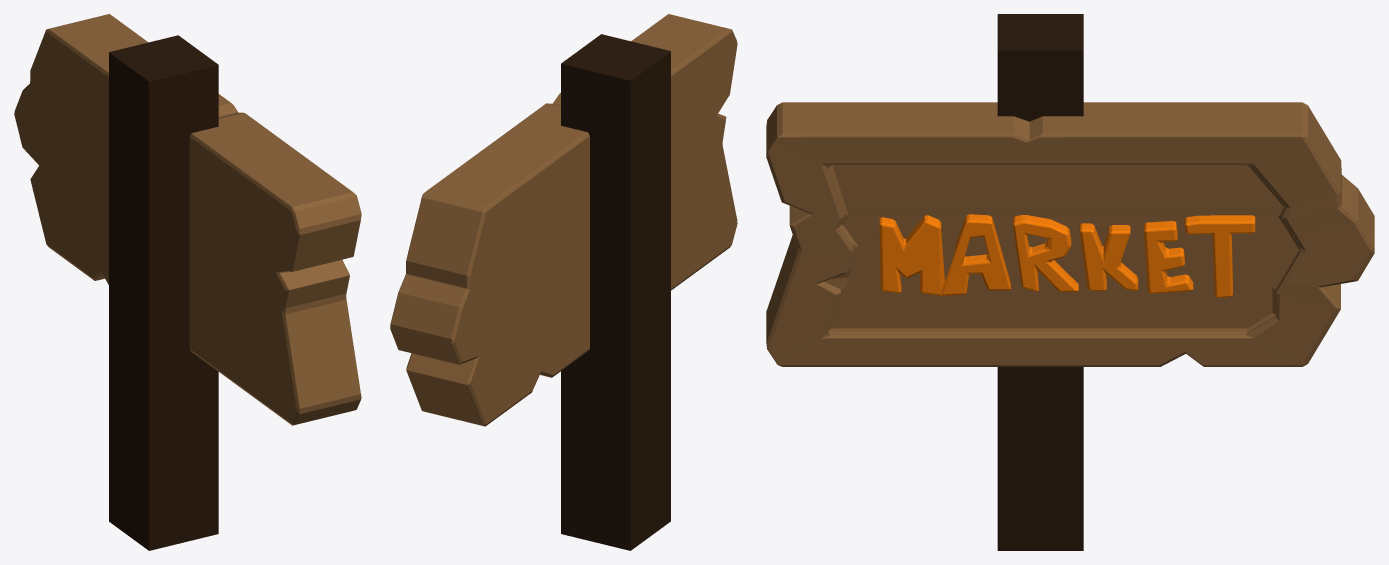
File: MarketSign.fbx
3 renders of one model, left to right at view 1: azimuth 30°, elevation 25°; view 2: azimuth 150°, elevation 25°; view 3: azimuth 270°, elevation 25°, orthographic. The views are drawn at different scales.
Parts seen in each view (by area): view 1: Cube.012; view 2: Cube.012; view 3: Cube.012.
Part boxes in pixels (bbox=[...]): Cube.012: bbox=[14, 14, 361, 550]; Cube.012: bbox=[390, 14, 737, 550]; Cube.012: bbox=[766, 14, 1374, 550].
Bounding box in the file's own units: 65.22 × 266 × 293.
